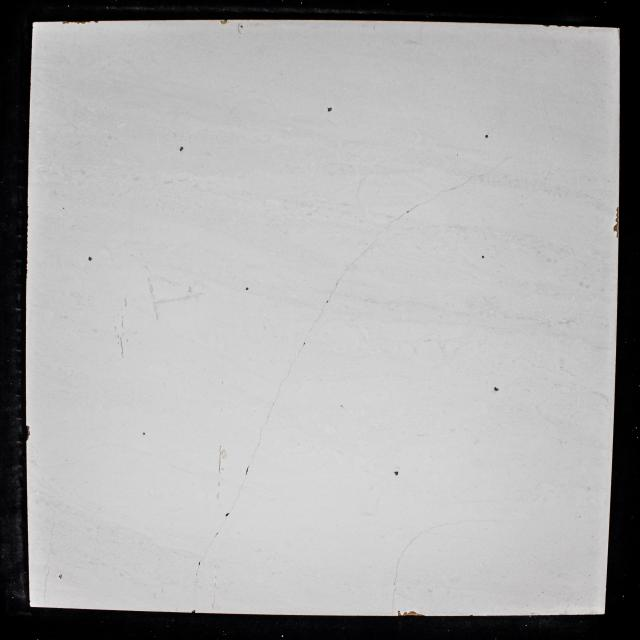edge-chipping: (402, 611, 425, 616), (615, 205, 620, 222), (26, 425, 31, 441), (74, 20, 91, 24), (613, 224, 619, 232), (542, 23, 551, 28), (220, 20, 228, 25), (556, 25, 569, 28), (62, 21, 69, 25), (397, 610, 401, 616), (616, 232, 619, 238), (191, 610, 196, 613), (94, 21, 98, 24), (574, 26, 580, 28)
hole: (327, 106, 332, 112), (179, 146, 184, 152), (494, 386, 499, 392), (394, 471, 399, 476), (58, 574, 62, 579), (485, 134, 489, 139), (88, 256, 92, 261), (225, 513, 230, 517), (245, 287, 249, 291), (481, 255, 485, 259), (142, 432, 146, 435), (326, 300, 329, 303), (406, 210, 409, 213), (198, 562, 200, 566), (303, 342, 305, 346), (240, 26, 243, 28)
line: (201, 517, 227, 561), (354, 229, 384, 262), (330, 262, 353, 300), (305, 303, 326, 342), (281, 346, 303, 383), (249, 423, 266, 465), (411, 191, 441, 211), (266, 383, 281, 422), (230, 476, 246, 512), (442, 176, 472, 192), (385, 213, 405, 228), (401, 537, 417, 555), (43, 567, 51, 601), (193, 567, 199, 603), (391, 583, 397, 616), (419, 526, 438, 534), (394, 558, 400, 582), (218, 445, 222, 474), (440, 522, 460, 526), (120, 337, 123, 355), (122, 320, 124, 327), (125, 298, 126, 307)
